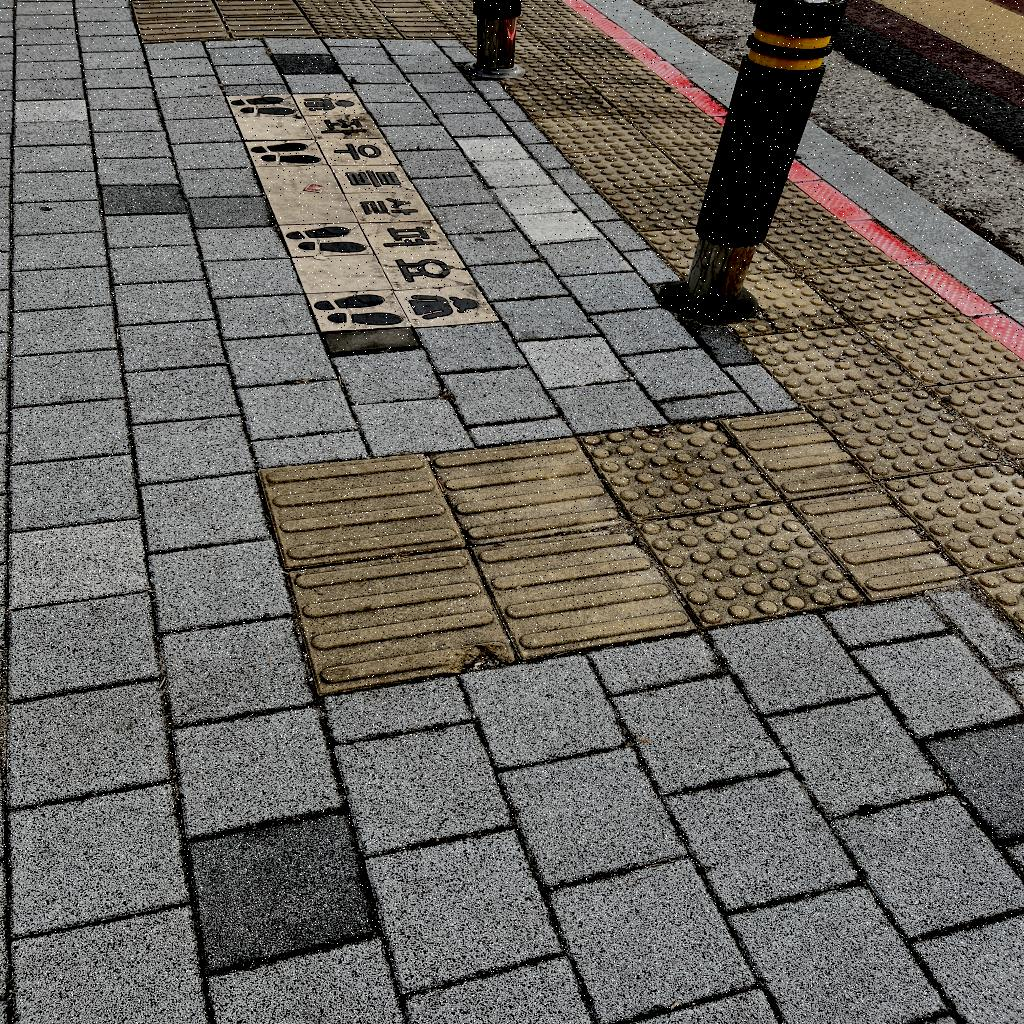Stop block broken: (581, 412, 781, 525)
Stop block normal: (637, 489, 865, 635), (803, 377, 1005, 486), (742, 319, 918, 406), (565, 146, 693, 191), (535, 111, 653, 155), (508, 84, 619, 119)
Straight block broken: (289, 538, 515, 695)
Straight block normal: (473, 511, 696, 663), (260, 446, 463, 568), (430, 431, 629, 546)
